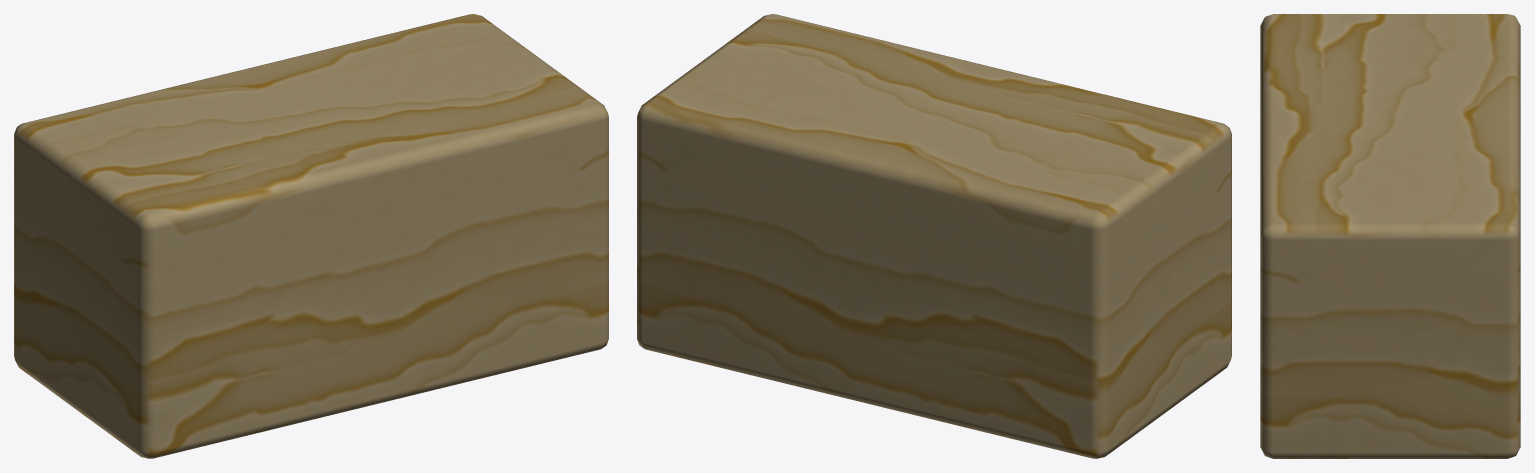
Rendered from SM_Platform_1m_02_B.glb.
3 renders of one model, left to right at view 1: azimuth 30°, elevation 25°; view 2: azimuth 150°, elevation 25°; view 3: azimuth 270°, elevation 25°, orthographic. The views are drawn at different scales.
Visible parts, largest first — view 1: SM_Platform_1m_02_B; view 2: SM_Platform_1m_02_B; view 3: SM_Platform_1m_02_B.
Part boxes in pixels (left/top/right/bottom): SM_Platform_1m_02_B: left=14, top=14, right=608, bottom=458; SM_Platform_1m_02_B: left=637, top=14, right=1231, bottom=458; SM_Platform_1m_02_B: left=1260, top=14, right=1520, bottom=458.
Bounding box in the file's own units: 2 × 1 × 1.
Materials: 1 (1 with a texture image).
